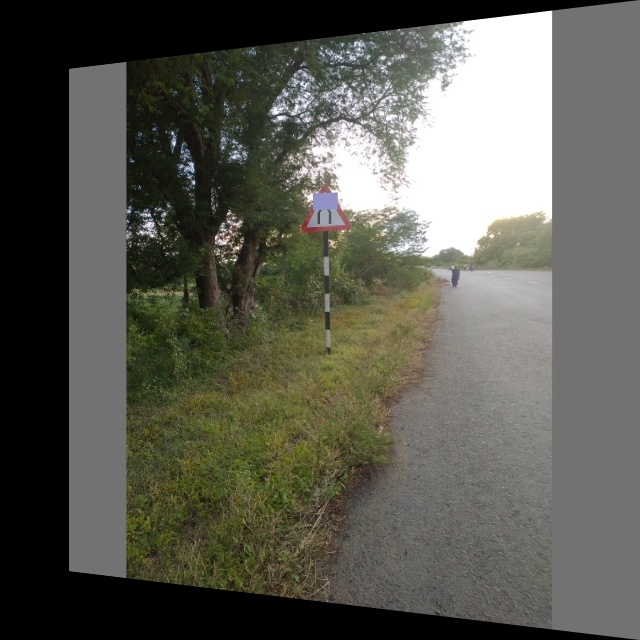Narrow_Road_Ahead: (299, 180, 349, 232)
